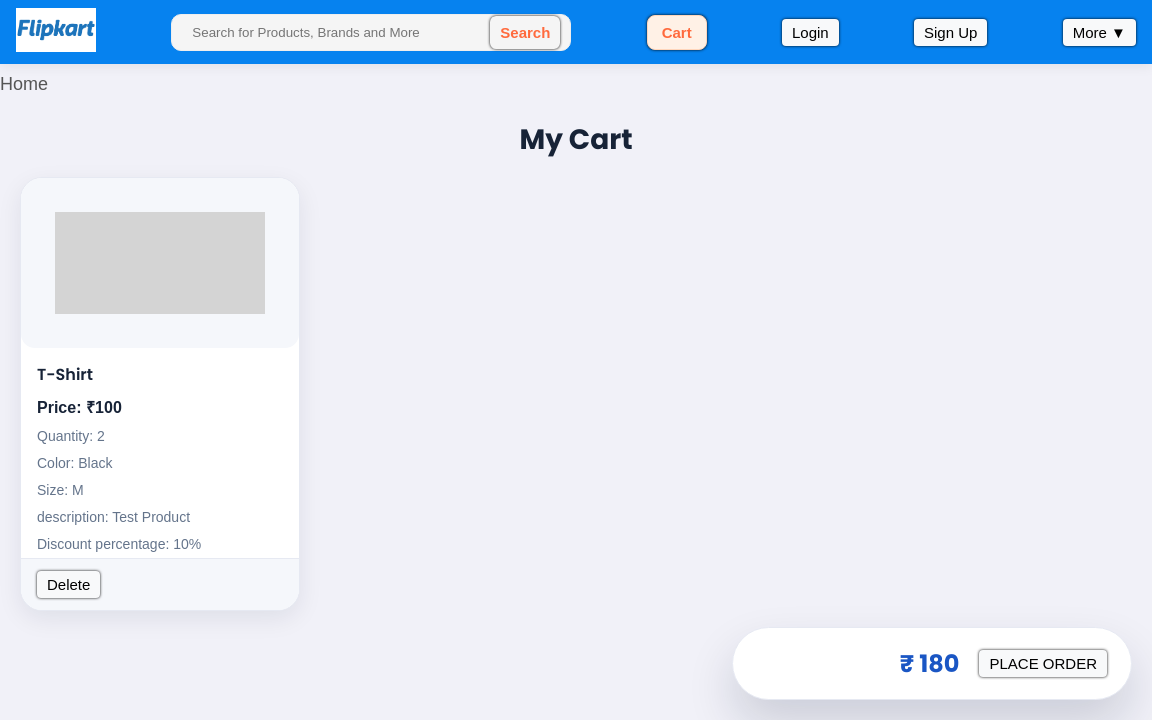
Test: Cart Page › deletes cart item successfully
Click the button "Delete" at coordinates (69, 585), box [37,571,100,598]
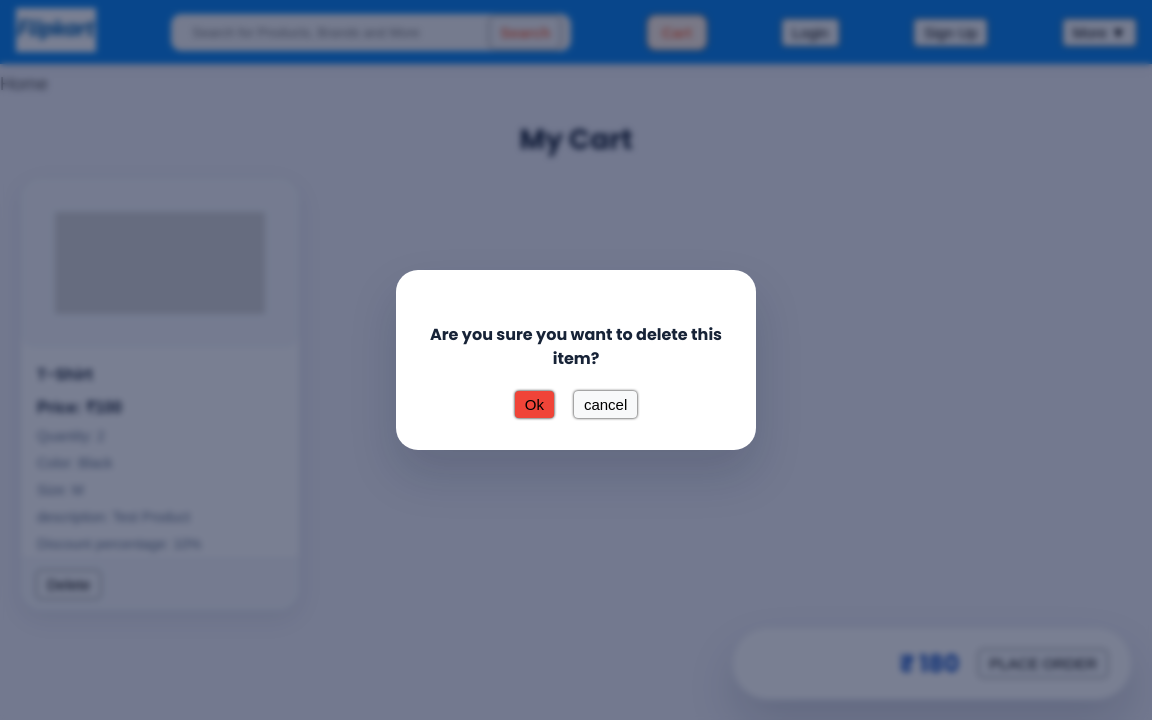
Click the button "Ok" at coordinates (534, 405), box [515,391,554,418]
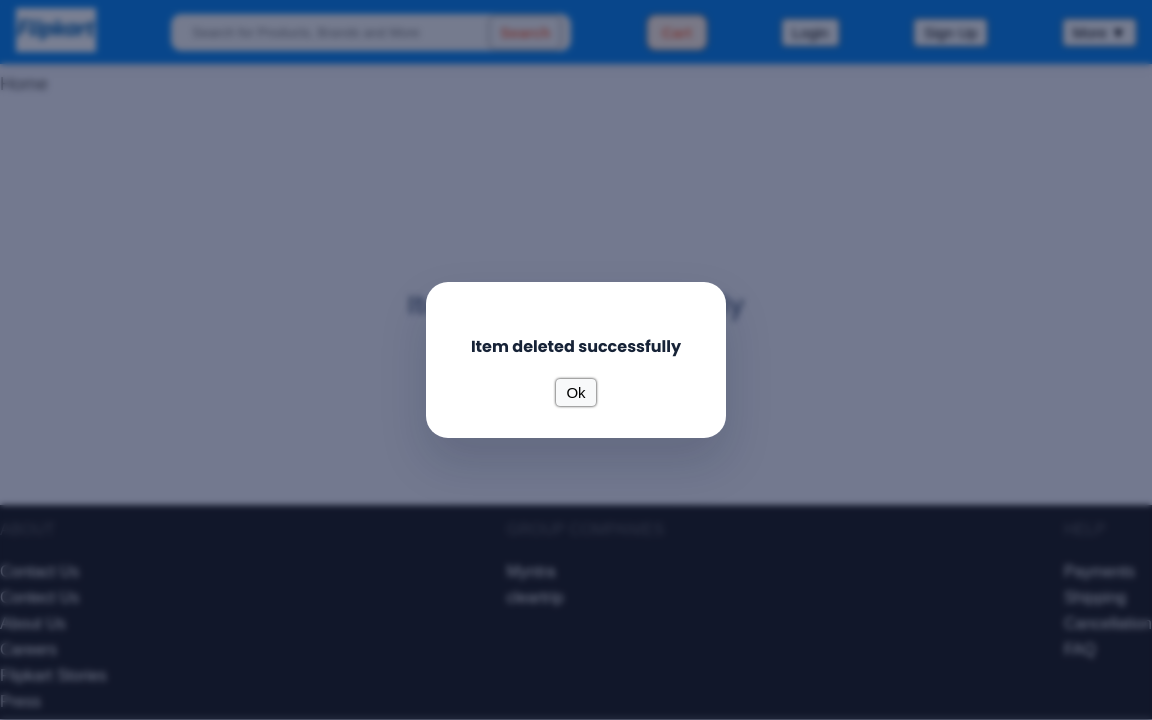
Expected: the number of headings "Item deleted successfully" is 2, [408,286,745,325]; [458,335,694,359]
